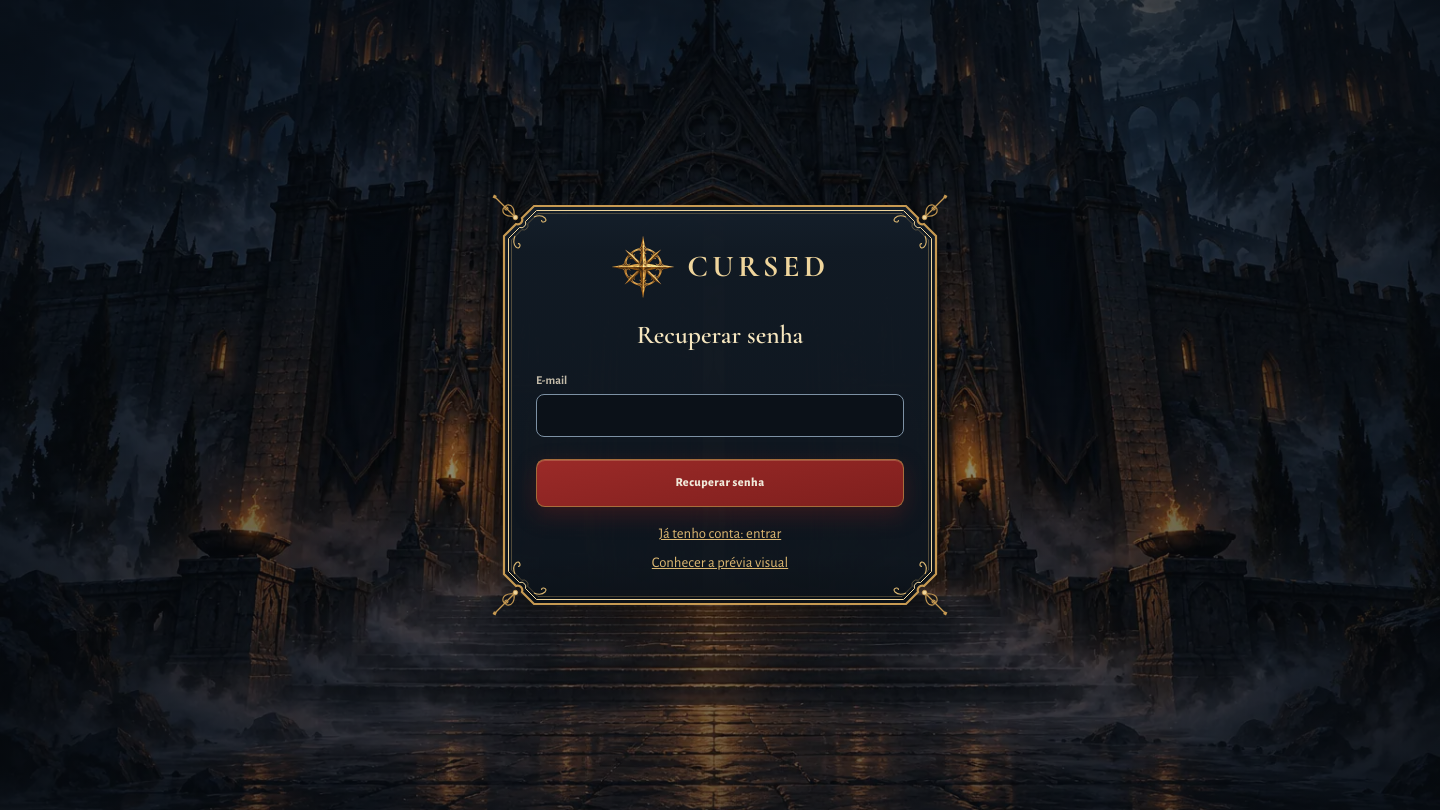
entrada, cadastro e senha (5.1) › recuperar senha responde igual mesmo quando o serviço falha
In the field labelled "E-mail": (720,416) [536, 394, 904, 437], type "ninguem@exemplo.com"
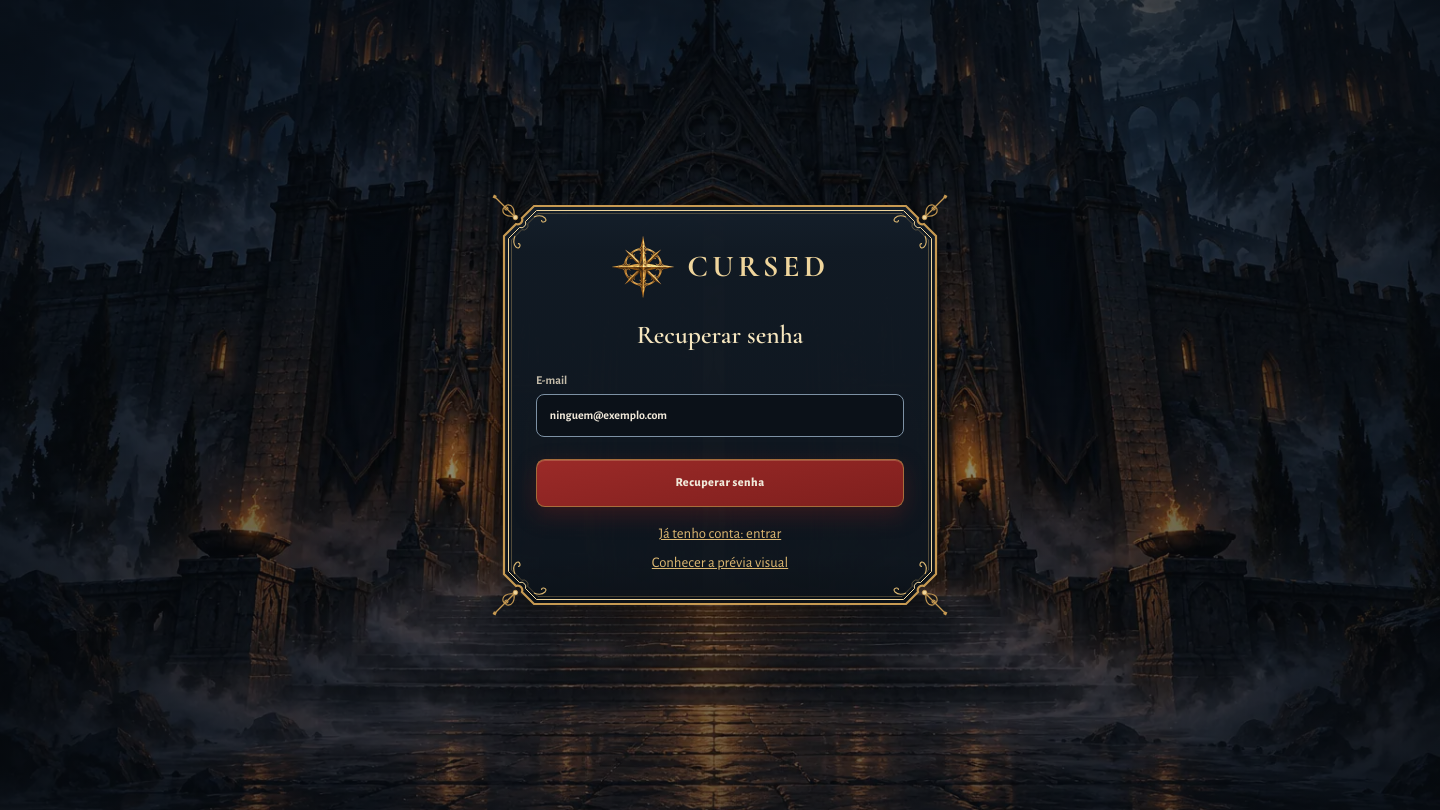
Click the button "Recuperar senha": (720,483) [536, 459, 904, 507]
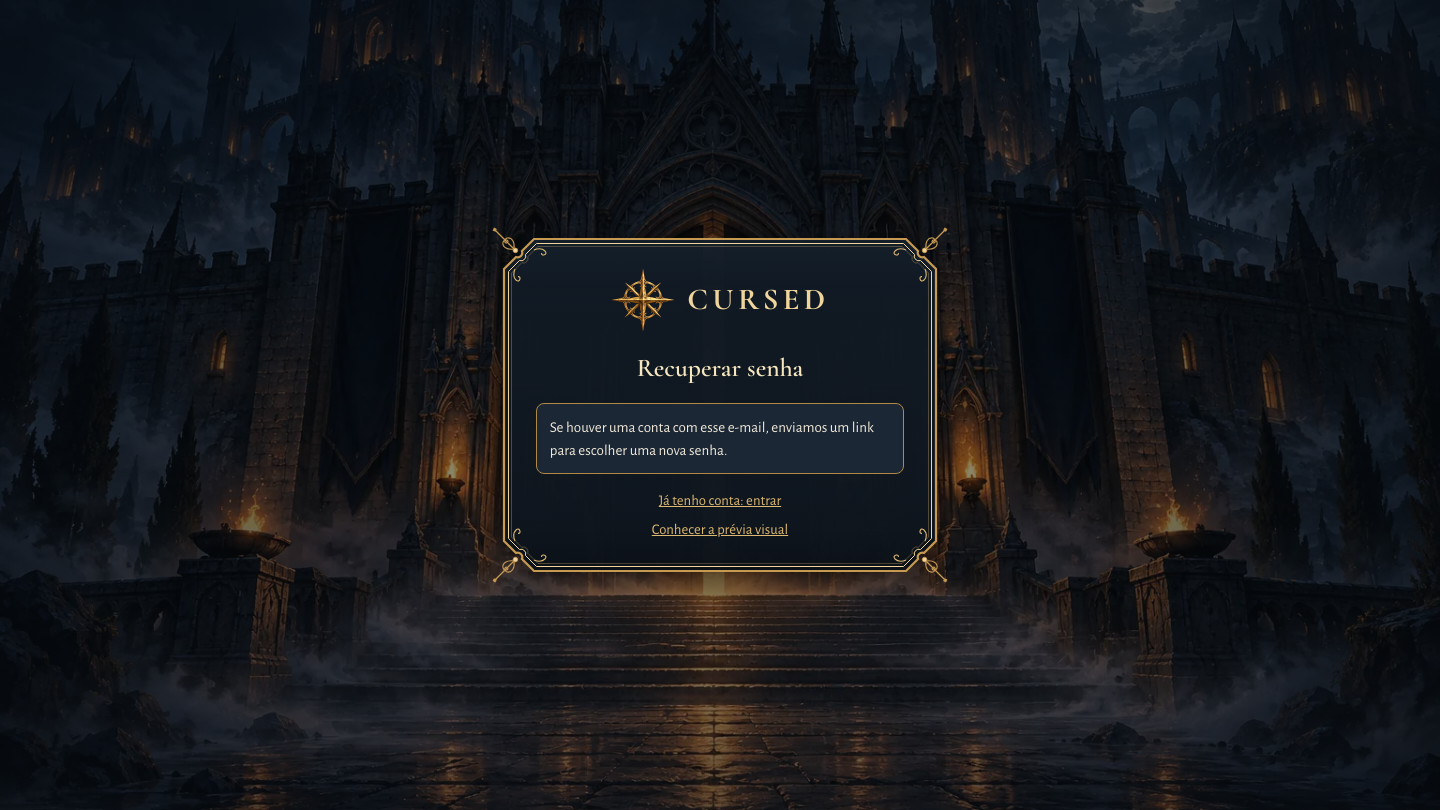
Now the message shows "Se houver uma conta com esse e-mail, enviamos um link para escolher uma nova senha.", box [550, 420, 874, 458]
